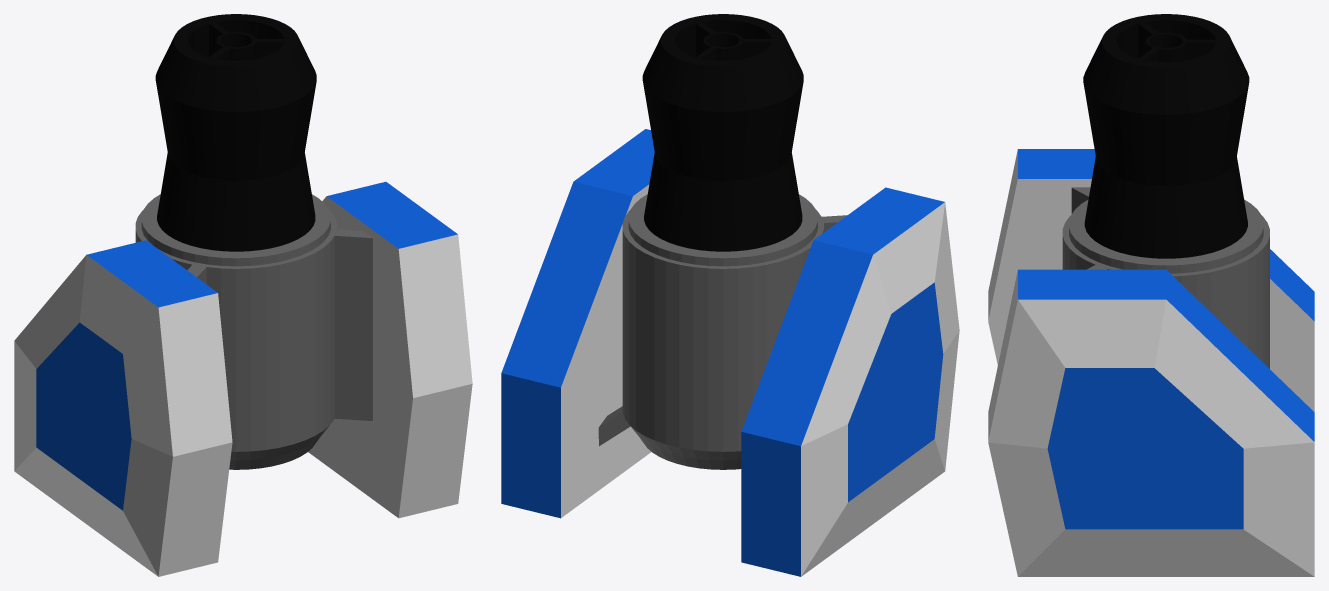
Rendered from Tower Media A.fbx.
The picture shows the model from 3 angles, left to right: view 1: azimuth 30°, elevation 25°; view 2: azimuth 150°, elevation 25°; view 3: azimuth 270°, elevation 25°; orthographic projection. The views are drawn at different scales.
Parts seen in each view (by area): view 1: Corpo; view 2: Corpo; view 3: Corpo.
Part boxes in pixels (<box>): Corpo: <box>14,14,472,576</box>; Corpo: <box>501,14,959,576</box>; Corpo: <box>988,14,1314,576</box>.
Size of the model in its own units: 260 by 342 by 220.
